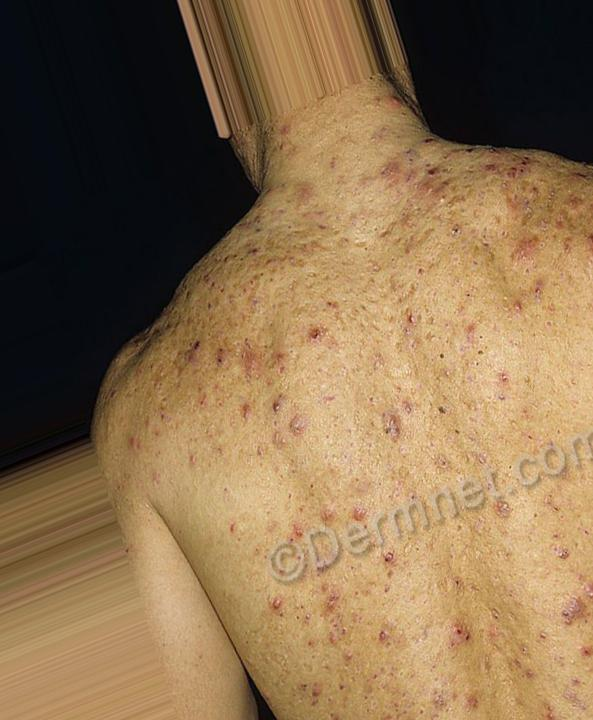Acne: (235, 320, 326, 456), (243, 595, 356, 630), (490, 207, 544, 267), (446, 626, 502, 671), (546, 590, 593, 642)
